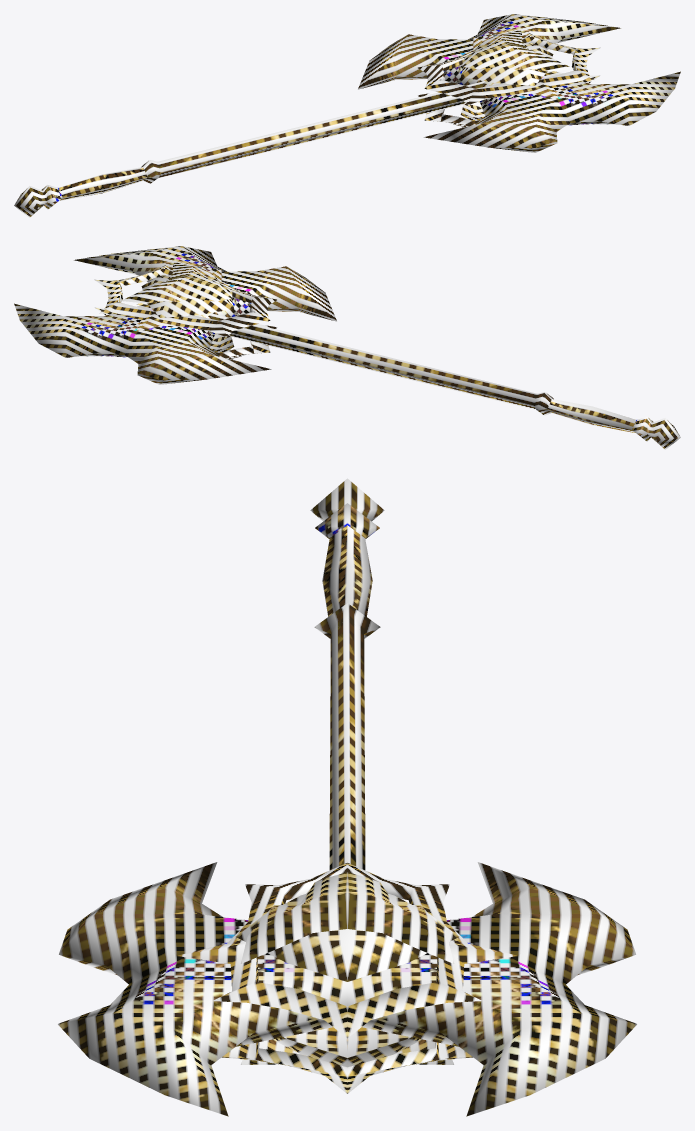
The model's file is item_weaaxtcrystal-et01.glb.
The picture shows the model from 3 angles, top to bottom: view 1: azimuth 30°, elevation 25°; view 2: azimuth 150°, elevation 25°; view 3: azimuth 270°, elevation 25°; orthographic projection. The views are drawn at different scales.
Visible parts, largest first — view 1: FlyffMesh; view 2: FlyffMesh; view 3: FlyffMesh.
Part boxes in pixels (x1,y1,x2,y2): FlyffMesh: [14, 14, 680, 217]; FlyffMesh: [14, 246, 680, 449]; FlyffMesh: [58, 478, 636, 1116].
Bounding box in the file's own units: 2.09 × 0.2546 × 0.8233.
1 material, 1 textured.
